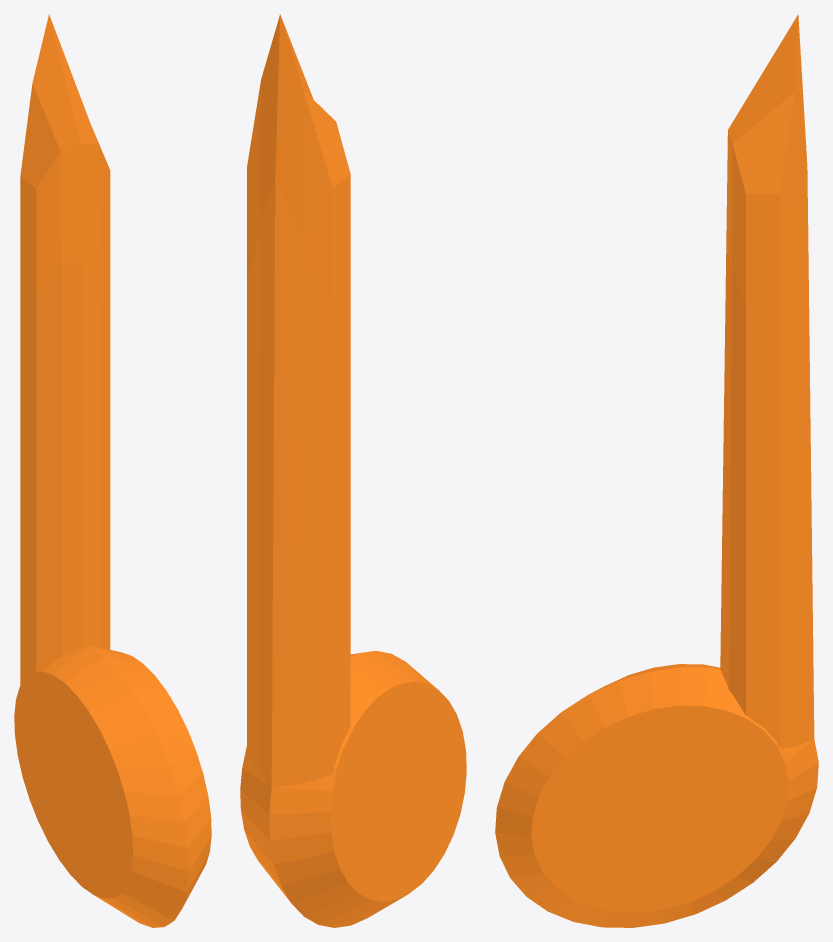
The model's file is proj1.glb.
3 views of the same model, side by side, from view 1: azimuth 30°, elevation 25°; view 2: azimuth 150°, elevation 25°; view 3: azimuth 270°, elevation 25° (orthographic). The views are drawn at different scales.
Parts seen in each view (by area): view 1: Plane; view 2: Plane; view 3: Plane.
Boxes of the visible parts, x1,y1,x2,y2 form: Plane: (14, 14, 211, 927); Plane: (240, 14, 466, 927); Plane: (495, 14, 818, 927).
Size of the model in its own units: 0.3052 by 3.13 by 1.
